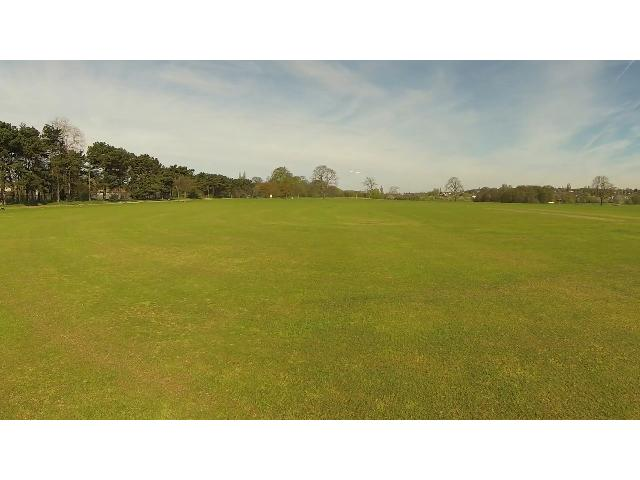Anti-Drone: (343, 169, 365, 179)
